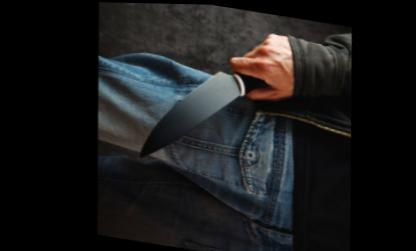knife: (115, 18, 294, 182)
